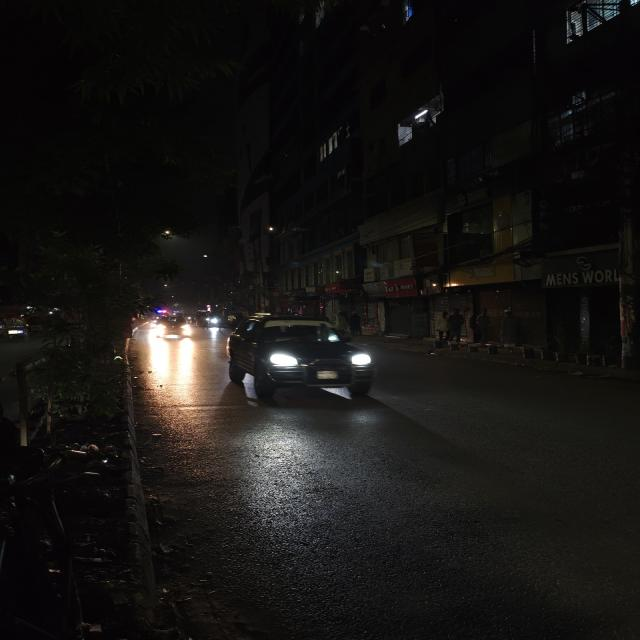car: (222, 314, 384, 404), (154, 314, 192, 343)
pedestrian: (443, 308, 471, 344), (499, 308, 524, 348), (470, 308, 494, 344), (429, 309, 454, 342)
rickshaw: (204, 311, 223, 332), (224, 312, 241, 328)
